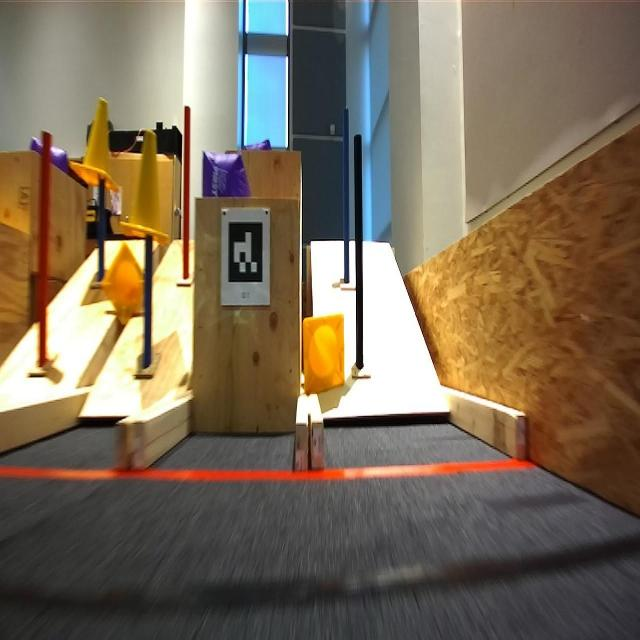frc_cone: (120, 124, 172, 250), (72, 97, 116, 194), (101, 240, 147, 328), (300, 312, 346, 395)
frc_cube: (200, 145, 250, 201), (32, 137, 68, 169), (240, 136, 274, 151)
